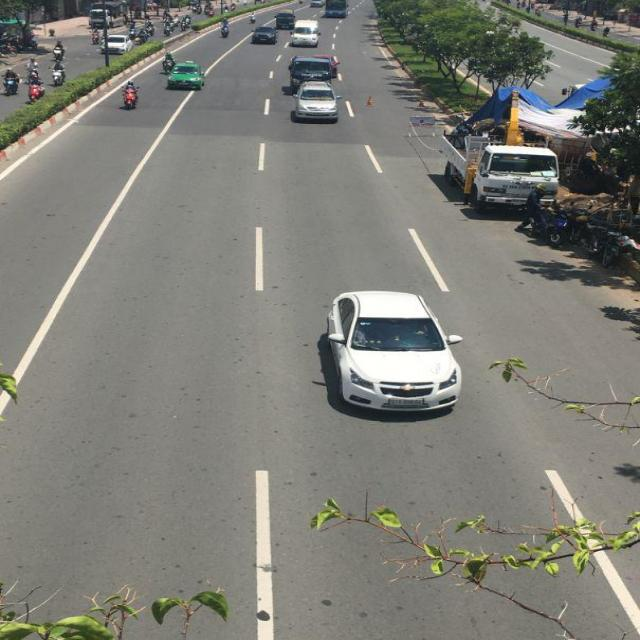car: (316, 292, 464, 419), (294, 84, 340, 124), (166, 60, 205, 90), (288, 21, 320, 49), (104, 35, 133, 55), (251, 26, 278, 45)
motorcycle: (28, 82, 44, 101)
truck: (439, 125, 560, 215), (286, 55, 340, 96), (324, 1, 348, 20)
